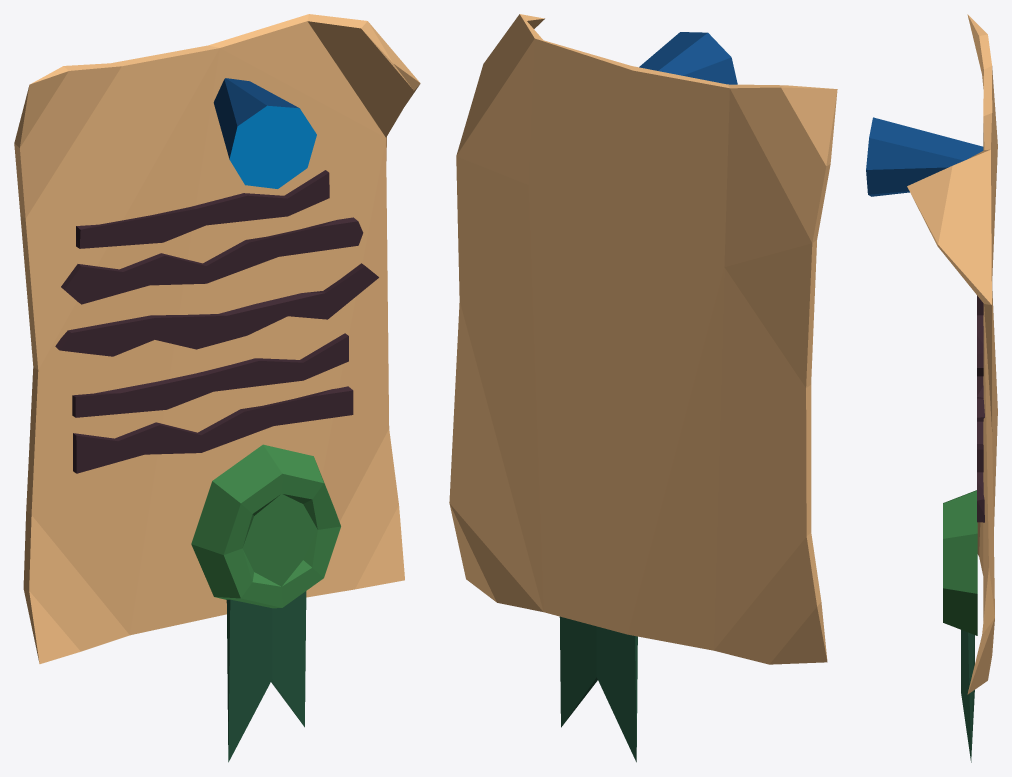
The model's file is QuestNotice 02.fbx.
3 views of the same model, side by side, from view 1: azimuth 30°, elevation 25°; view 2: azimuth 150°, elevation 25°; view 3: azimuth 270°, elevation 25° (orthographic). The views are drawn at different scales.
Visible parts, largest first — view 1: QuestNotice 02; view 2: QuestNotice 02; view 3: QuestNotice 02.
Boxes of the visible parts, <box> form: QuestNotice 02: <box>14,14,420,762</box>; QuestNotice 02: <box>449,14,837,762</box>; QuestNotice 02: <box>866,14,997,762</box>.
Size of the model in its own units: 28.43 by 52.13 by 9.68.
